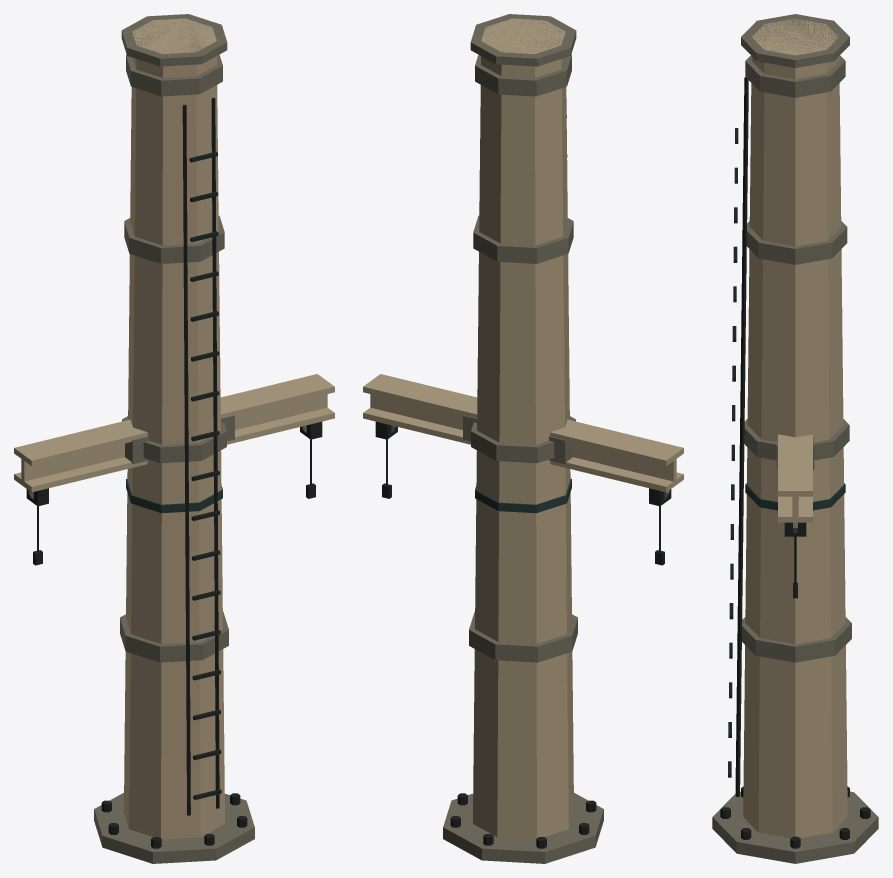
Rendered from slag_bowl_kit.glb.
The picture shows the model from 3 angles, left to right: view 1: azimuth 30°, elevation 25°; view 2: azimuth 150°, elevation 25°; view 3: azimuth 270°, elevation 25°; orthographic projection.
Parts seen in each view (by area): view 1: CraneMast, CraneBoom, VentNozzle; view 2: CraneMast, CraneBoom, VentNozzle; view 3: CraneMast, CraneBoom, VentNozzle.
Part boxes in pixels (x1,y1,x2,y2): CraneMast: (94,14,254,863); CraneBoom: (14,374,334,565); VentNozzle: (126,479,222,513); CraneMast: (443,14,603,863); CraneBoom: (363,374,683,565); VentNozzle: (475,479,571,513); CraneMast: (712,14,878,863); CraneBoom: (776,434,814,598); VentNozzle: (745,483,845,510).
Bounding box in the file's own units: 8 × 20 × 3.8.
